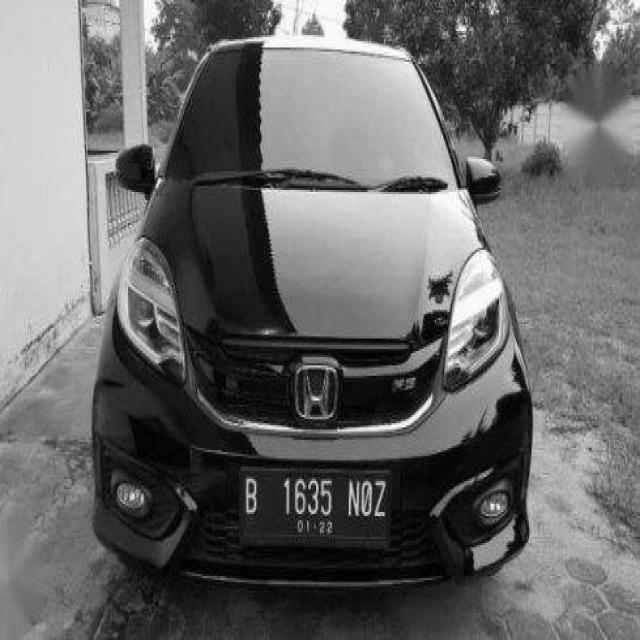1: (281, 476, 293, 516)
3: (307, 479, 319, 516)
5: (318, 476, 338, 517)
6: (292, 480, 307, 516)
B: (234, 476, 264, 513)
N: (347, 477, 360, 520)
O: (360, 480, 374, 520)
Z: (374, 481, 387, 524)
